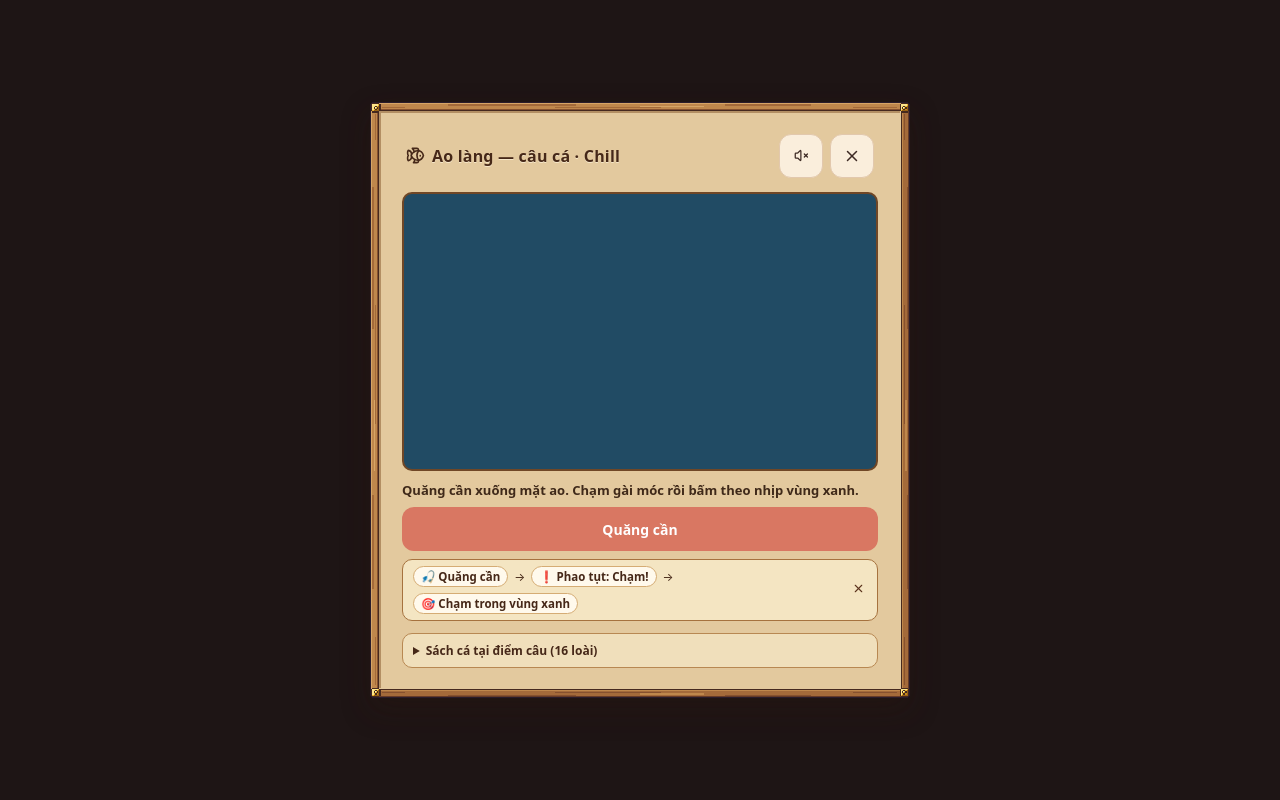
Scenario: shows the confirmed minnow in Chill and never re-resolves it while the next cast is starting
Click the button "Quăng cần" at (640, 529), box [402,507,878,551]
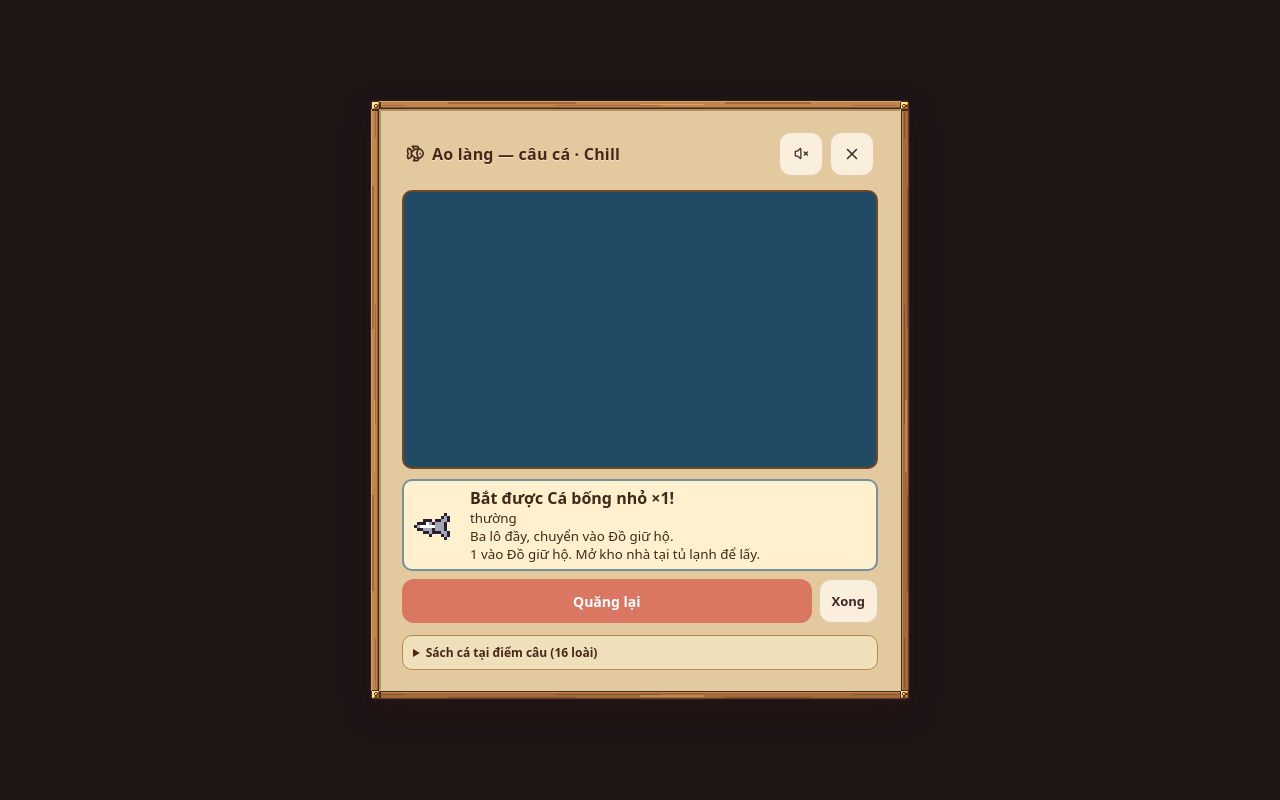
Expected: the message with test id "fishing-frenzy-catch-reveal" shows "Cá bống nhỏ", [470,487,674,509]
Expected: the message with test id "fishing-frenzy-catch-reveal" shows "Ba lô đầy, chuyển vào Đồ giữ hộ.", [470,527,674,545]
Expected: the message with test id "fishing-frenzy-catch-reveal" shows "×1", [470,487,674,509]
Click the button "Quăng lại" at (607, 601), box [402,579,812,623]
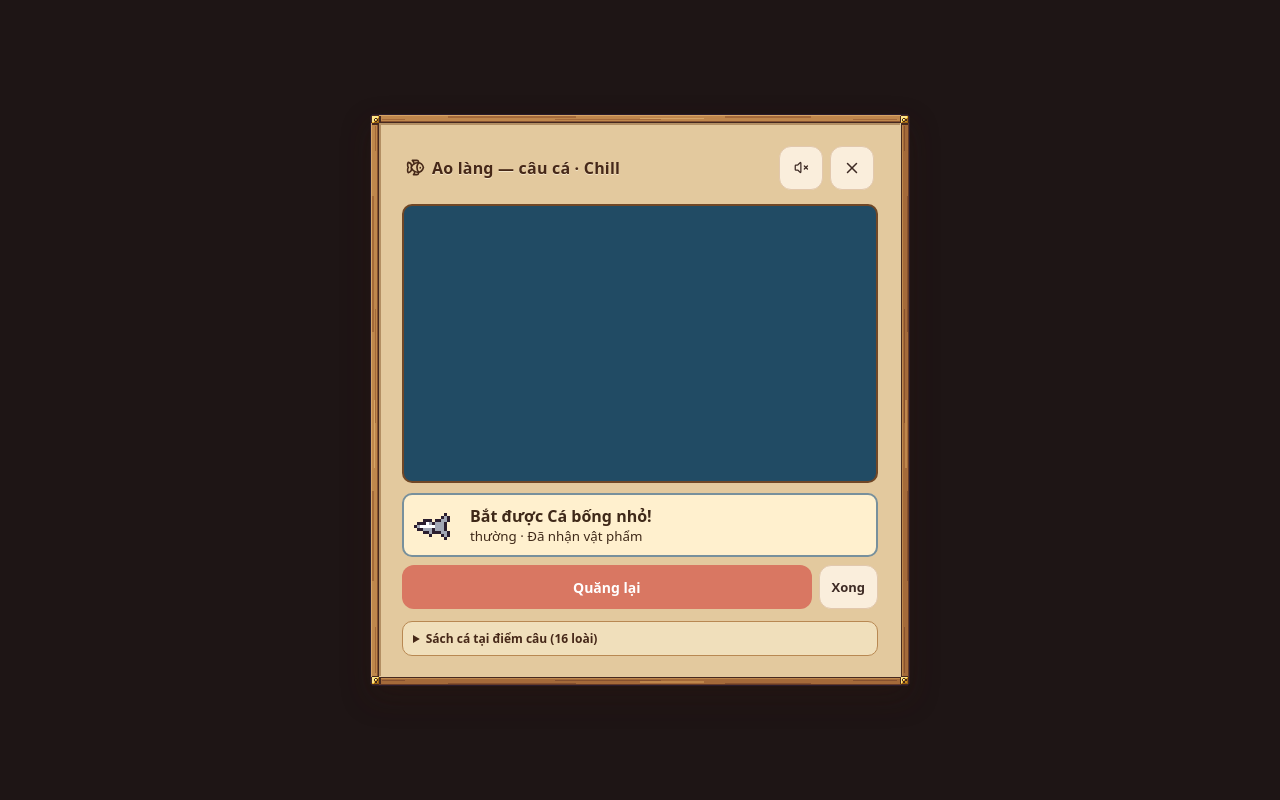
Click the button "Xong" at (848, 587), box [818,565,878,609]
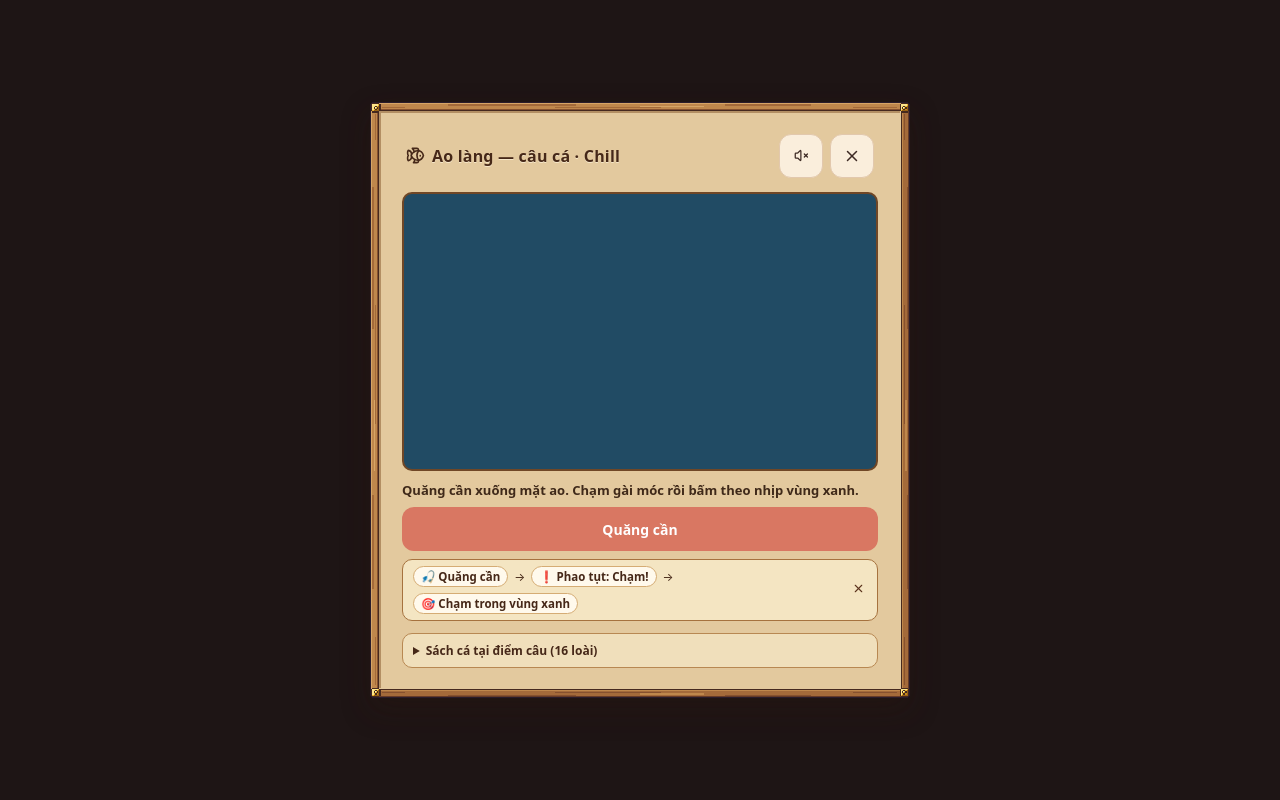
Expected: the button "Quăng cần" is enabled, [402,507,878,551]
Expected: the message with test id "fishing-frenzy-catch-reveal" is gone
